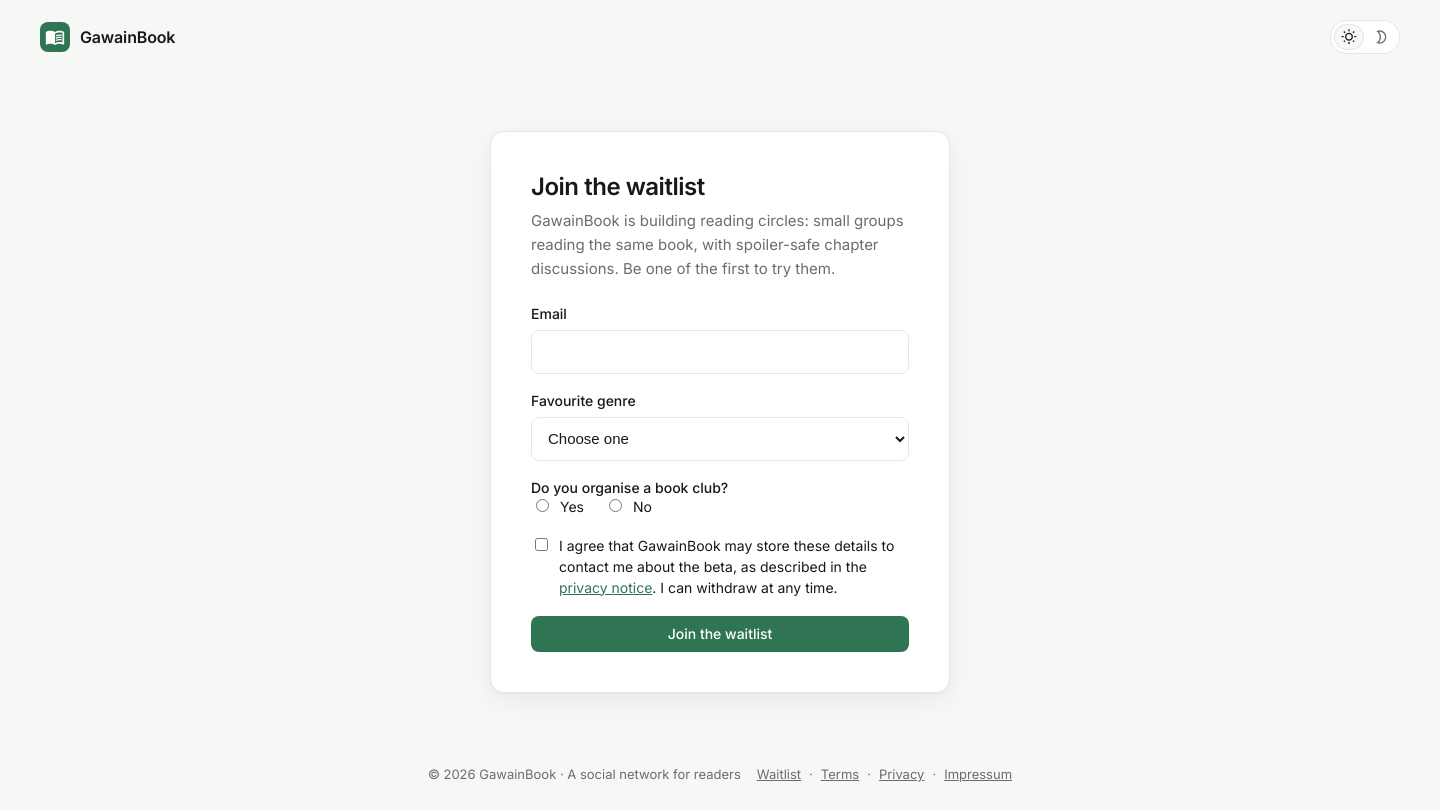
Test case: sends the details with explicit consent and shows the confirmation
Type "  Reader@Example.com " into the field labelled "Email" at coordinates (720, 352), box [531,330,909,374]
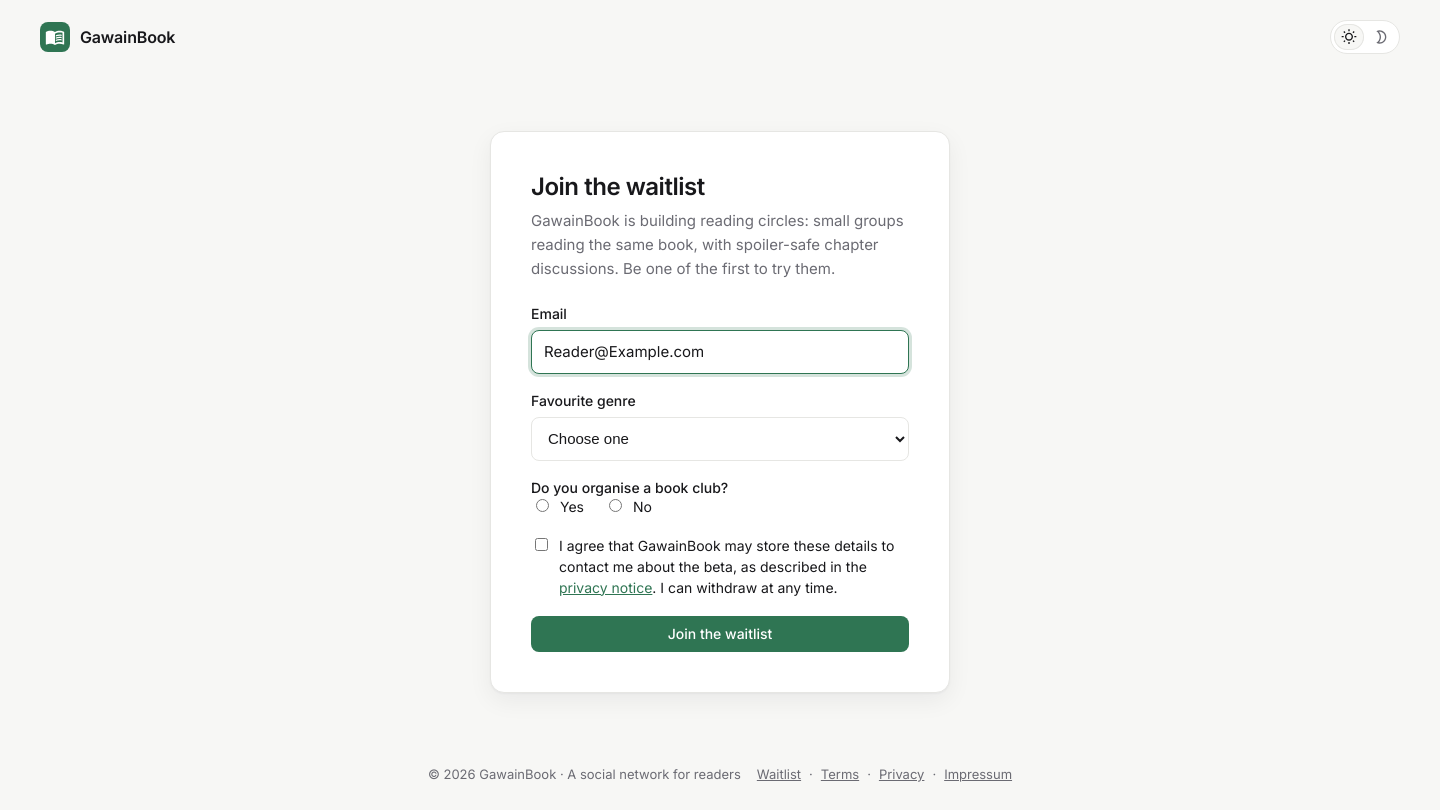
Select "Romantasy" in the dropdown labelled "Favourite genre" at coordinates (720, 439), box [531,417,909,461]
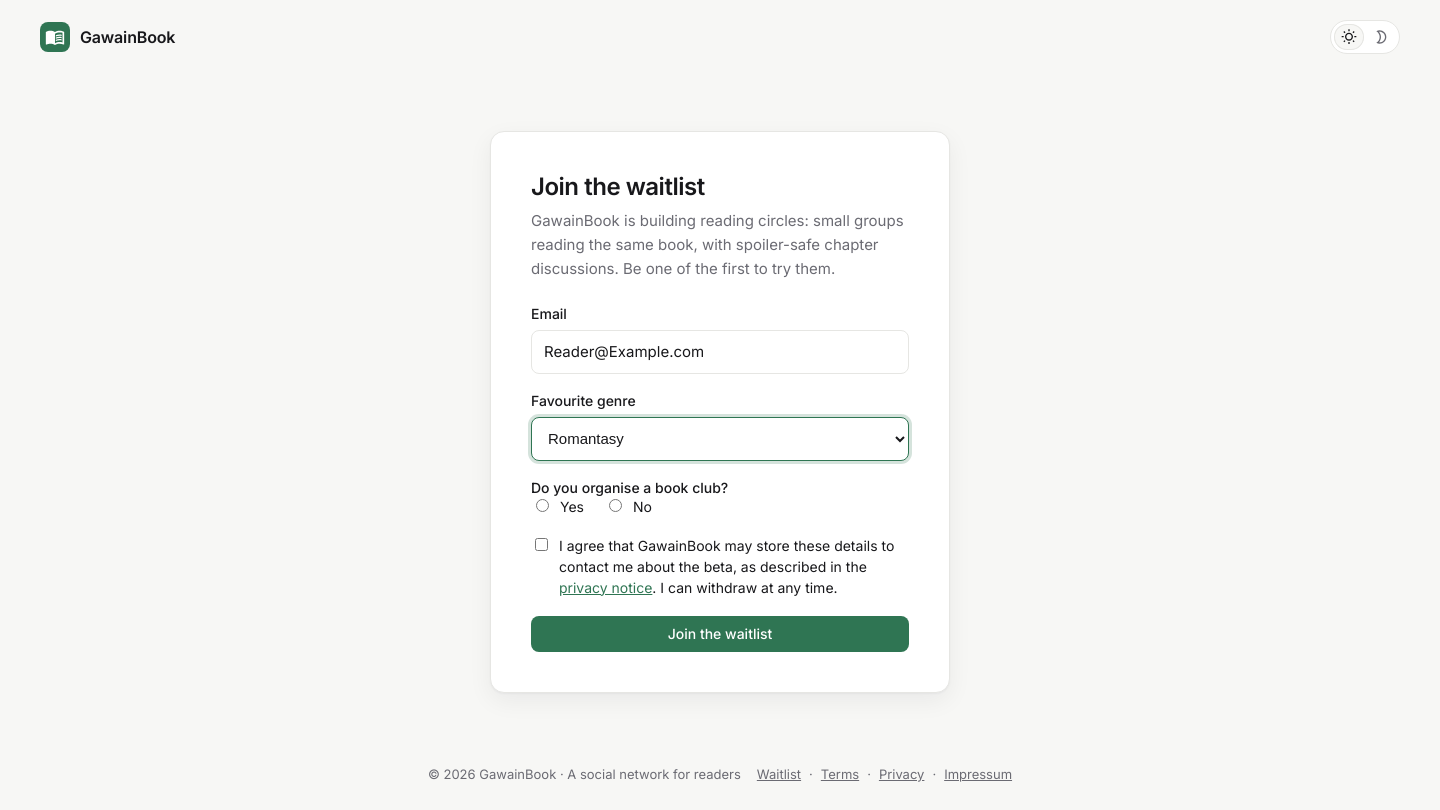
Click the radio button labelled "Yes" at coordinates (542, 505), box [536,499,549,512]
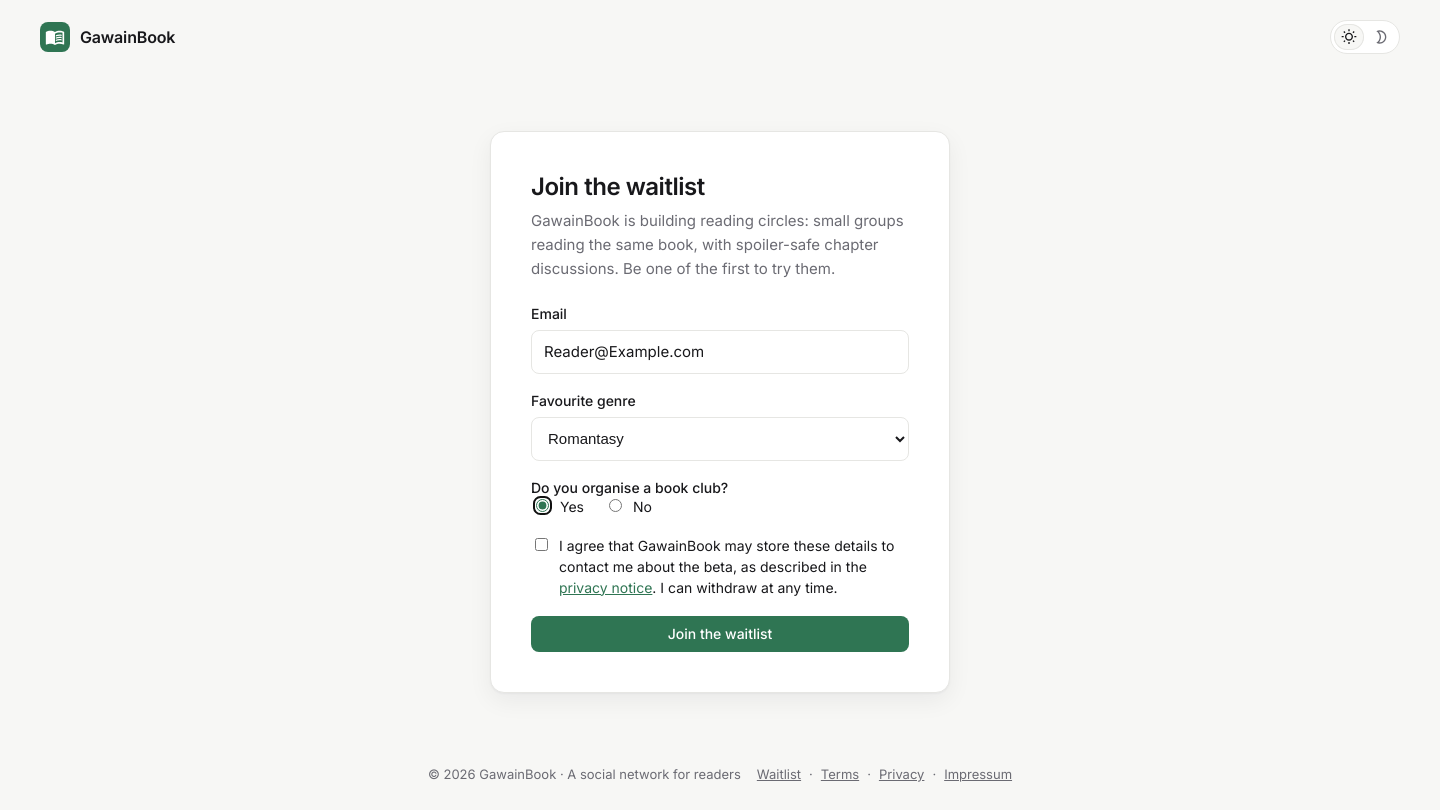
Click the checkbox at coordinates (542, 544), box [535,538,548,551]
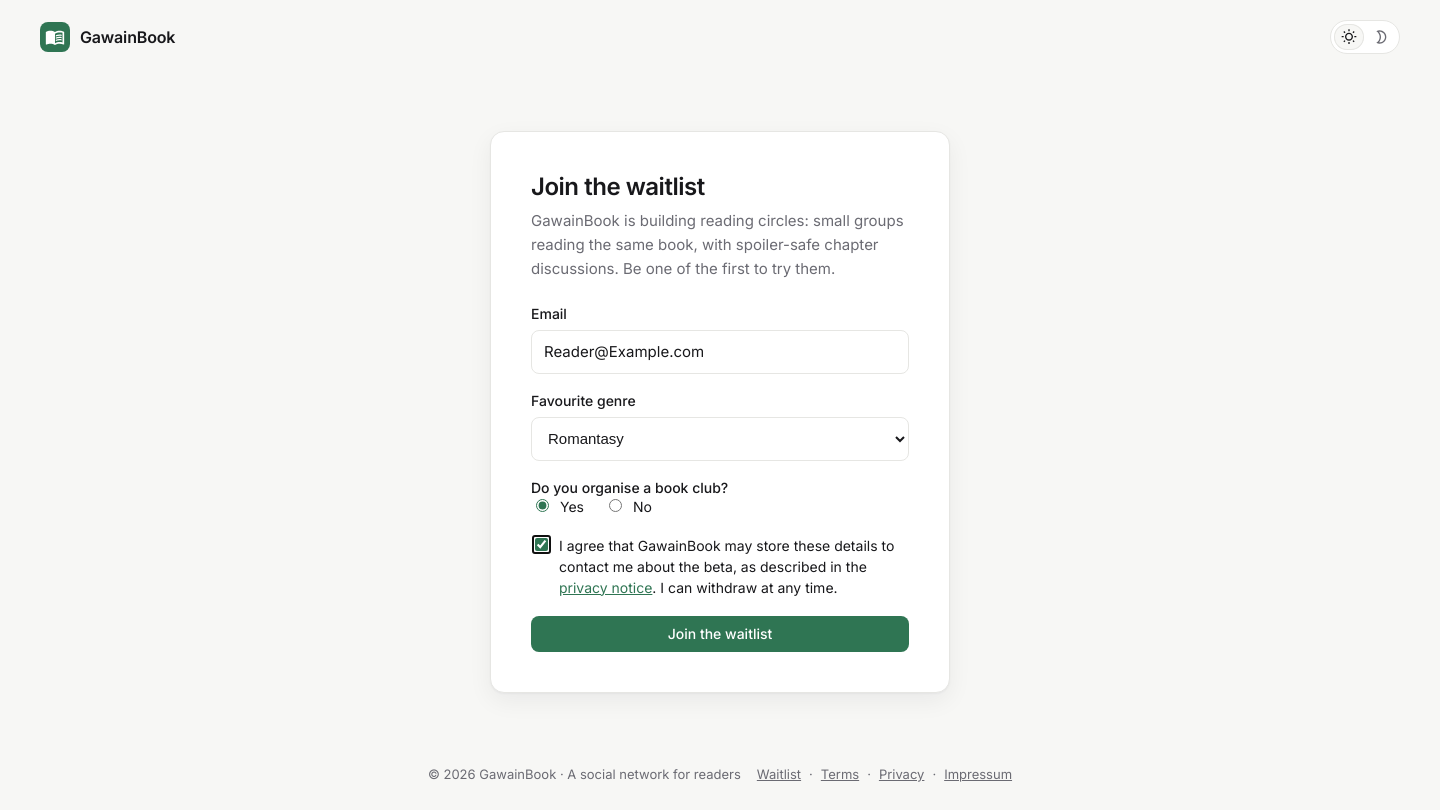
Click the button "Join the waitlist" at coordinates (720, 634), box [531,616,909,652]
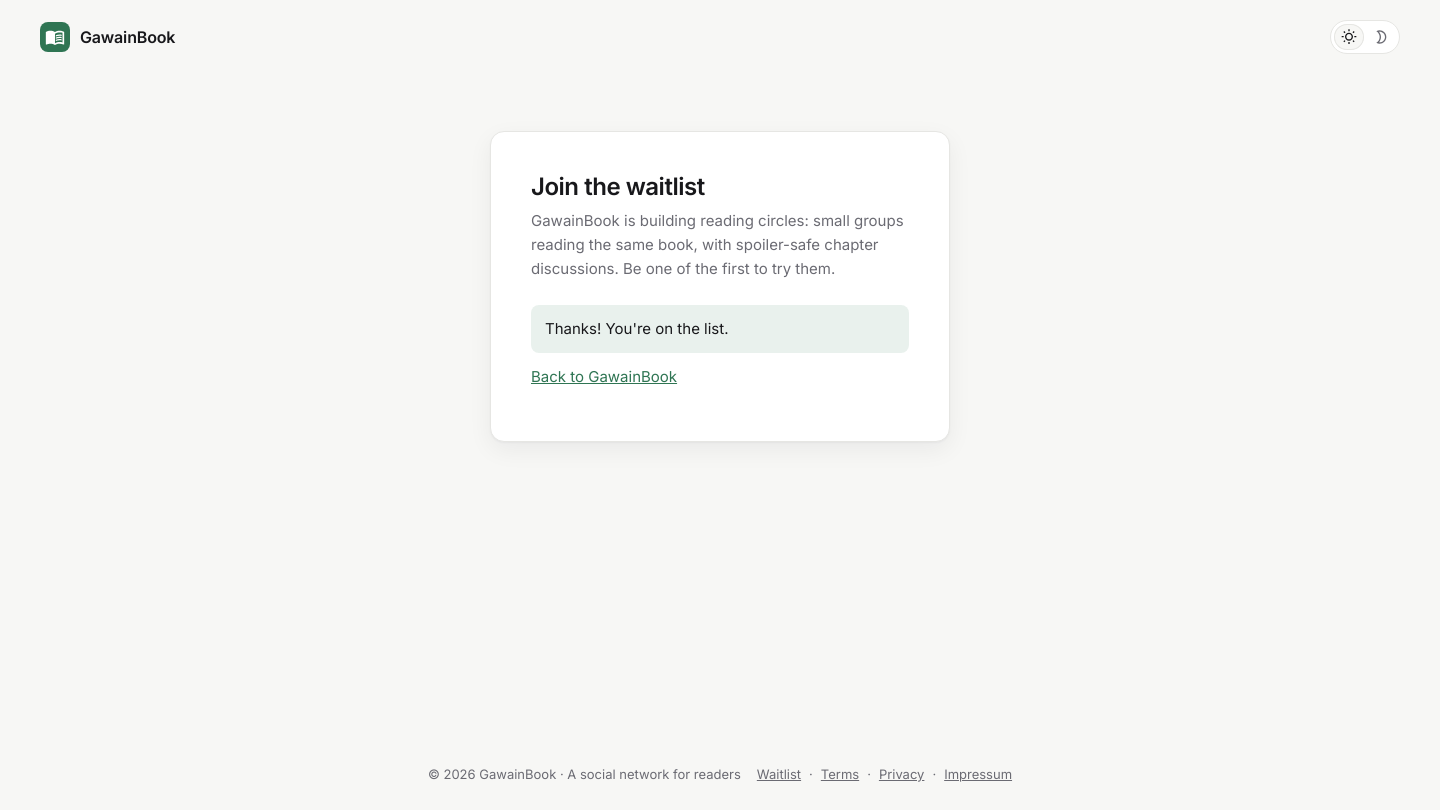
Check: the message shows "Thanks! You're on the list.", box [545,319,728,338]
Check: the label labelled "Email" is gone
